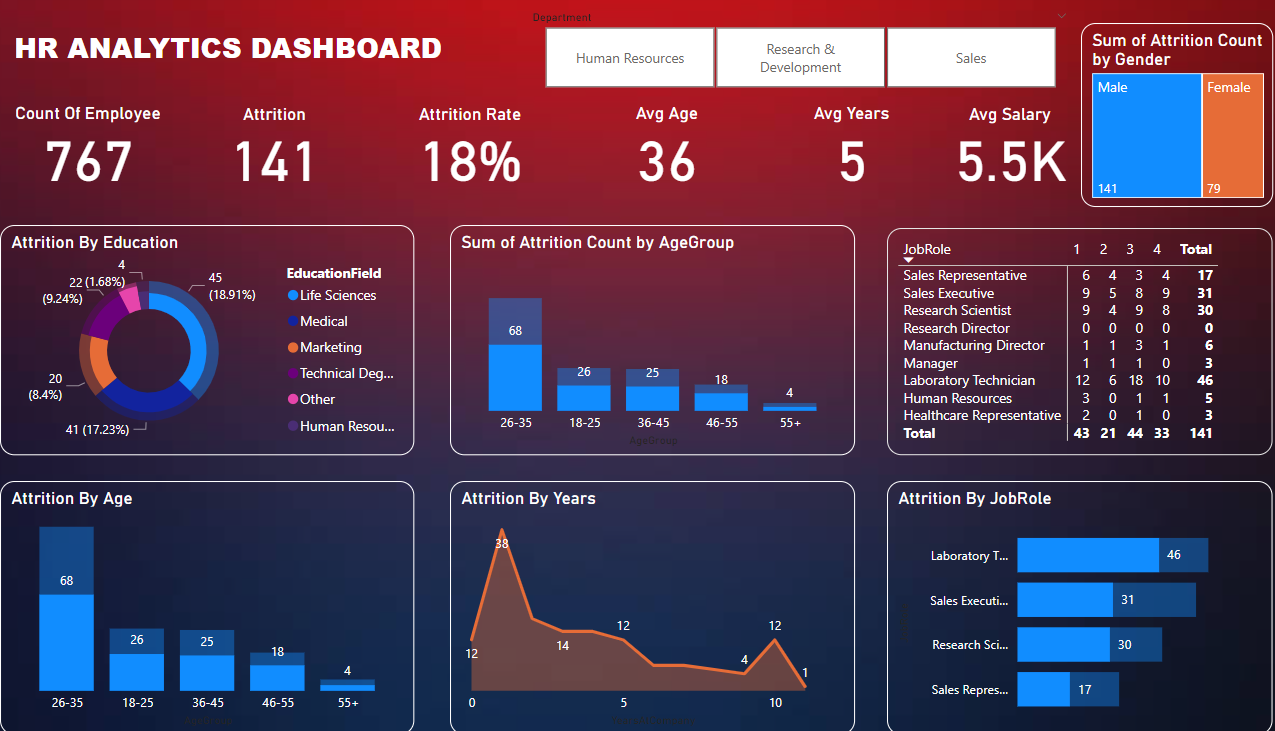

This screenshot's page, from the dashboard's own definition file:
{"tool":"powerbi","page":{"name":"Page 1","canvas":[1280,720],"ordinal":0},"visuals":[{"type":"card","title":"Count Of Employee","fields":{"Values":["Count(HR_Analytics.EmpID)"]},"box":[24.3,105,171.2,101.2],"z":0},{"type":"card","title":"Attrition","fields":{"Values":["Sum(HR_Analytics.Attrition Count)"]},"box":[195.5,106,191.6,100.2],"z":1000},{"type":"card","title":"Attrition Rate","fields":{"Values":["HR_Analytics.Attrition Rate"]},"box":[387.1,106,188.7,100.2],"z":2000},{"type":"card","title":"Avg Age","fields":{"Values":["Avg(HR_Analytics.Age)"]},"box":[575.8,105,194.5,101.2],"z":3000},{"type":"card","title":"Avg Years","fields":{"Values":["Avg(HR_Analytics.YearsAtCompany)"]},"box":[759.6,105,185.8,101.2],"z":4000},{"type":"card","title":"Avg Salary","fields":{"Values":["Avg(HR_Analytics.MonthlyIncome)"]},"box":[945.4,106,122.6,100.2],"z":5000},{"type":"donutChart","title":"Attrition By Education ","fields":{"Category":["HR_Analytics.EducationField"],"Y":["Sum(HR_Analytics.Attrition Count)"]},"box":[24.3,223.7,402.7,223.7],"z":6000},{"type":"columnChart","fields":{"Category":["HR_Analytics.AgeGroup"],"Y":["Sum(HR_Analytics.Attrition Count)"]},"box":[462,223.7,393.9,223.7],"z":7000},{"type":"pivotTable","fields":{"Rows":["HR_Analytics.JobRole"],"Columns":["HR_Analytics.JobSatisfaction"],"Values":["Sum(HR_Analytics.Attrition Count)"]},"box":[887.1,226.6,375.4,220.8],"z":8000},{"type":"barChart","title":"Attrition By JobRole","fields":{"Category":["HR_Analytics.JobRole"],"Y":["Sum(HR_Analytics.Attrition Count)"]},"box":[887.1,472.7,375.4,247.1],"z":8001},{"type":"columnChart","title":"Attrition By Age","fields":{"Category":["HR_Analytics.AgeGroup"],"Y":["Sum(HR_Analytics.Attrition Count)"]},"box":[24.3,472.7,402.7,247.1],"z":8002},{"type":"areaChart","title":" Attrition By Years","fields":{"Category":["HR_Analytics.YearsAtCompany"],"Y":["Sum(HR_Analytics.Attrition Count)"]},"box":[462,472.7,393.9,247.1],"z":8003},{"type":"treemap","fields":{"Values":["Sum(HR_Analytics.Attrition Count)"],"Group":["HR_Analytics.Gender"]},"box":[1075.7,27.2,186.7,179],"z":8004},{"type":"slicer","fields":{"Values":["HR_Analytics.Department"]},"box":[529.1,10.7,545.7,85.6],"z":8005},{"type":"textbox","box":[33.1,10.7,570,85.6],"z":8006}]}

Visuals, with their boxes in screenshot pixels (x1, y1, x2, y2), scaled from the page's 1280x720 canvas onto the 1275x731 screenshot:
"Count Of Employee" card: locate(24, 107, 195, 209)
"Attrition" card: locate(195, 108, 386, 209)
"Attrition Rate" card: locate(386, 108, 574, 209)
"Avg Age" card: locate(574, 107, 767, 209)
"Avg Years" card: locate(757, 107, 942, 209)
"Avg Salary" card: locate(942, 108, 1064, 209)
"Attrition By Education " donutChart: locate(24, 227, 425, 454)
columnChart - HR_Analytics.AgeGroup x Sum(HR_Analytics.Attrition Count): locate(460, 227, 853, 454)
pivotTable - HR_Analytics.JobRole x HR_Analytics.JobSatisfaction: locate(884, 230, 1258, 454)
"Attrition By JobRole" barChart: locate(884, 480, 1258, 730)
"Attrition By Age" columnChart: locate(24, 480, 425, 730)
" Attrition By Years" areaChart: locate(460, 480, 853, 730)
treemap - Sum(HR_Analytics.Attrition Count) x HR_Analytics.Gender: locate(1071, 28, 1257, 209)
slicer - HR_Analytics.Department: locate(527, 11, 1071, 98)
textbox: locate(33, 11, 601, 98)
